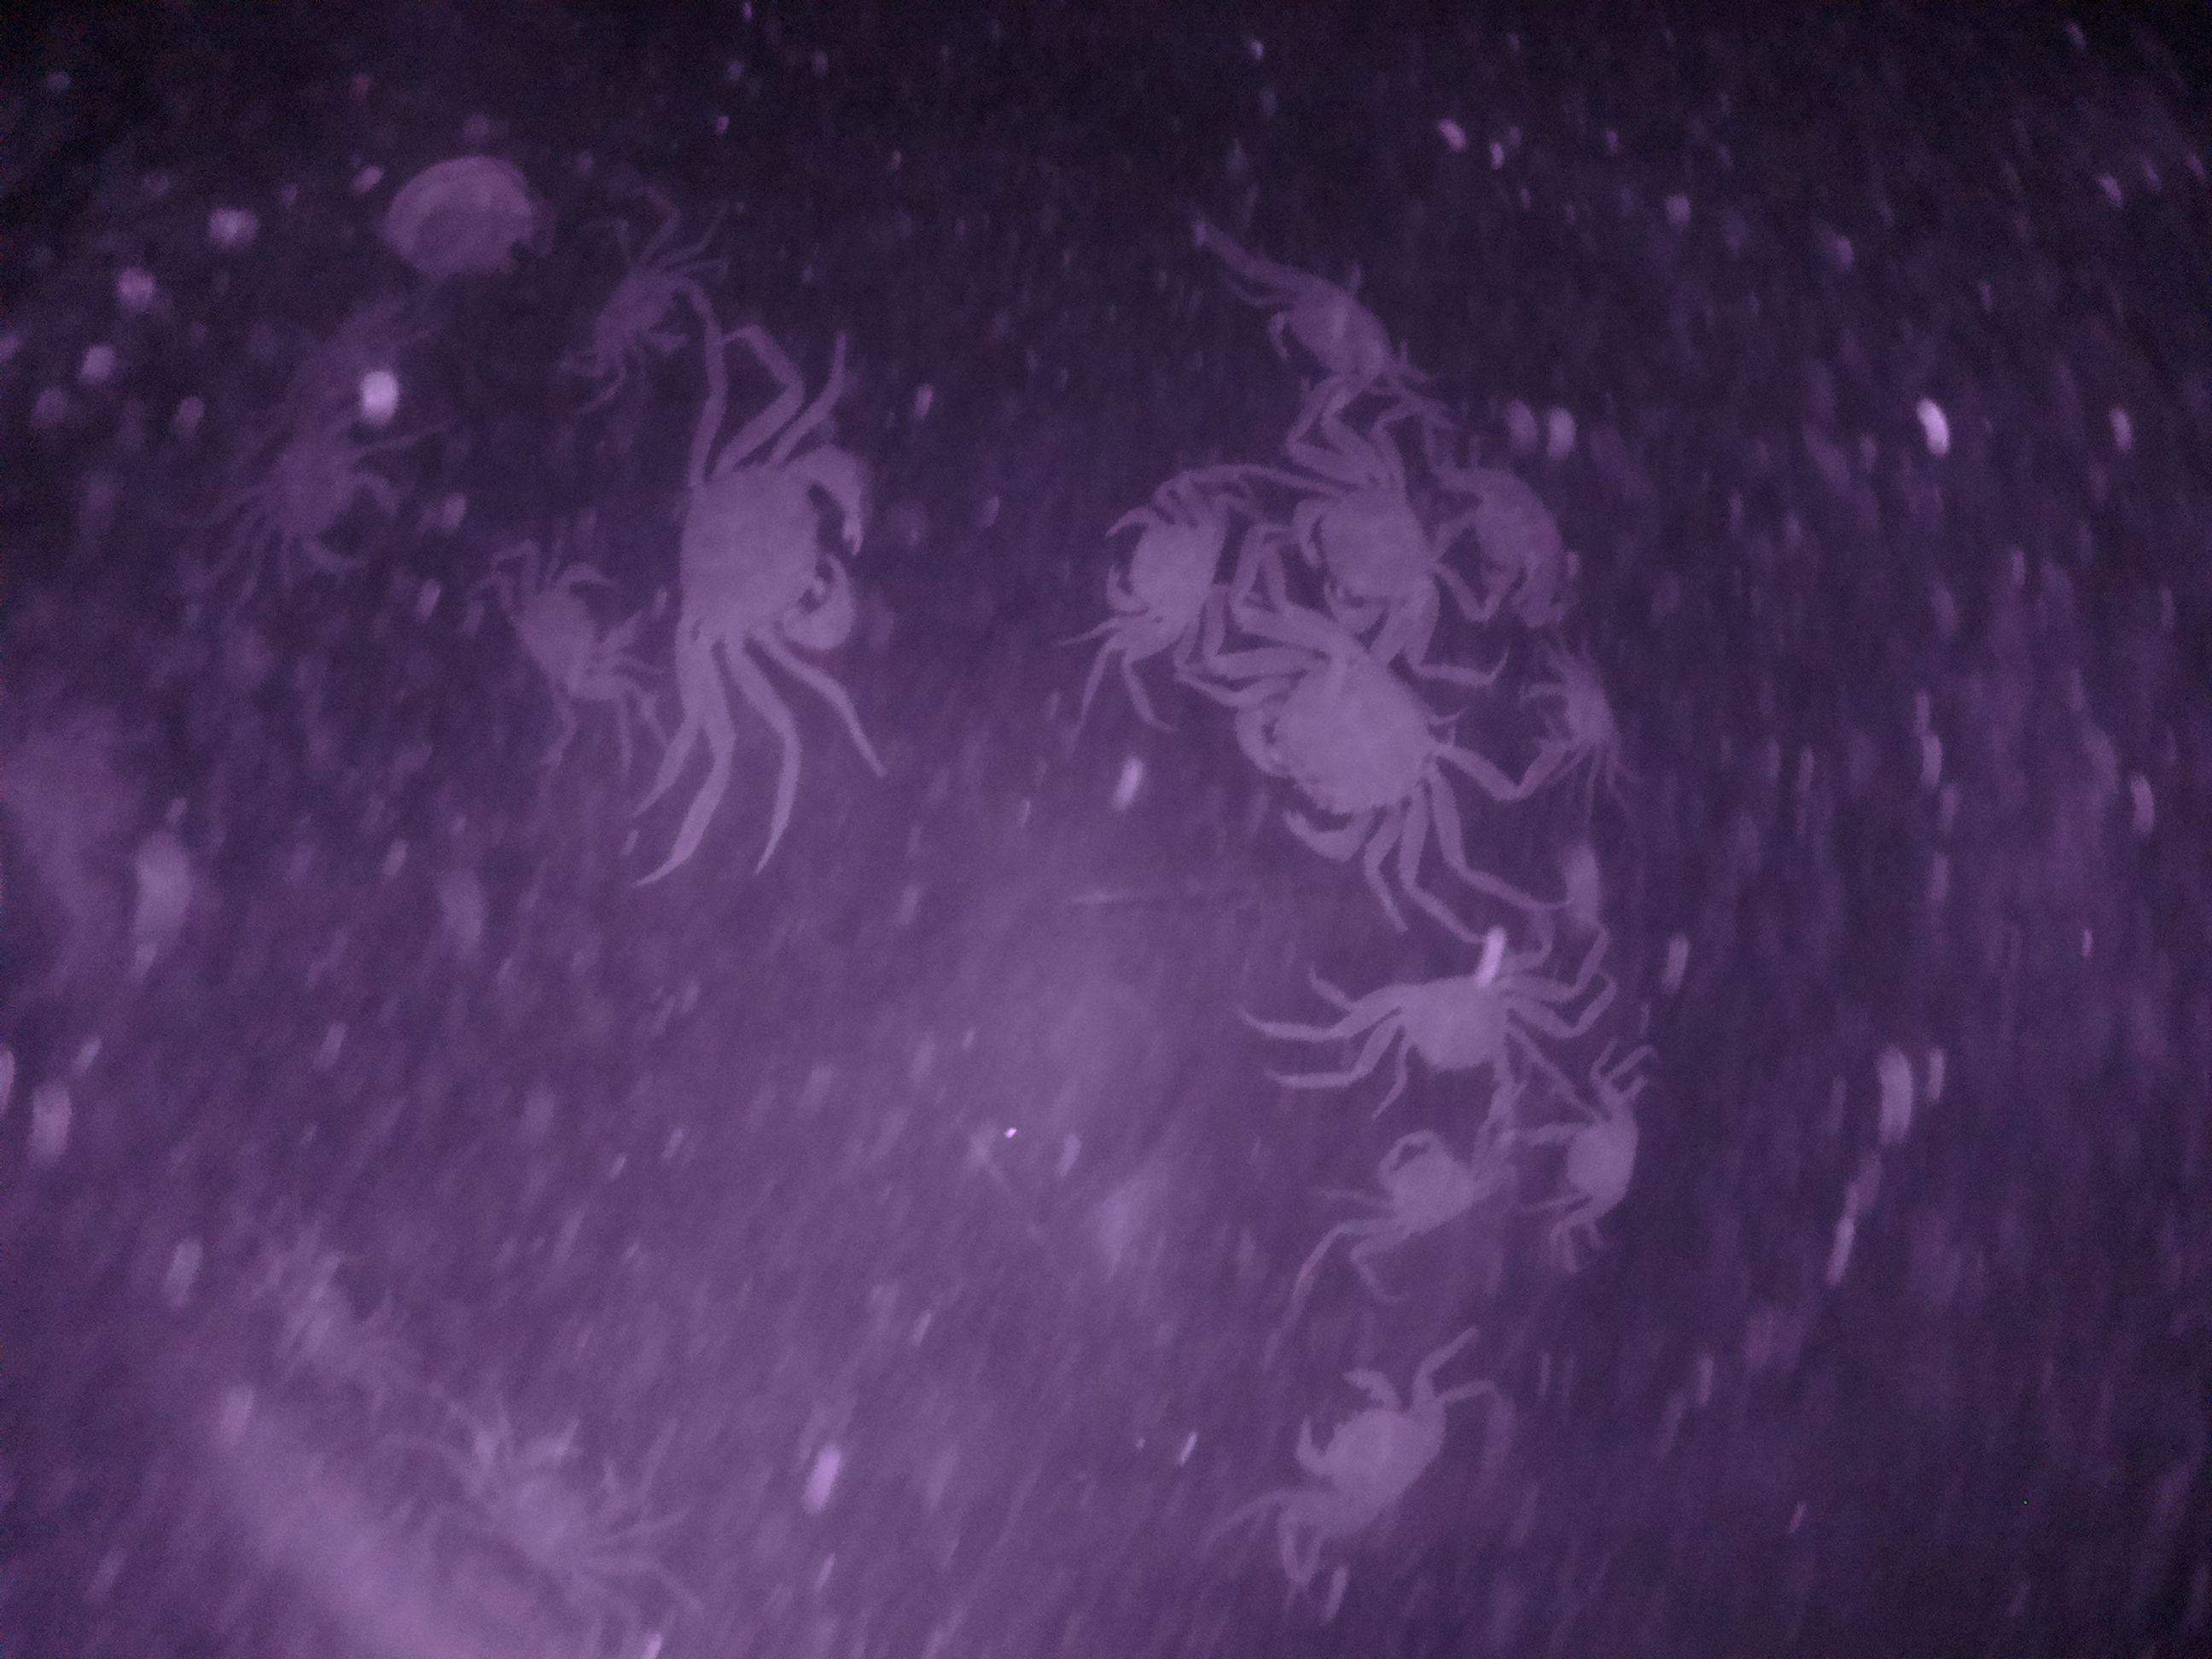Crab: (651, 427, 890, 685), (1221, 610, 1447, 870), (1268, 446, 1458, 648), (1327, 953, 1548, 1098), (1076, 477, 1235, 641), (1524, 650, 1642, 767)
